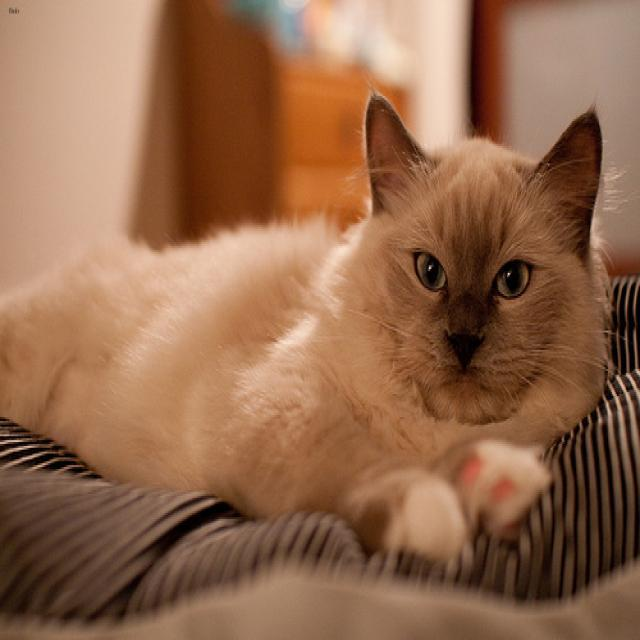Ragdoll: (336, 86, 613, 437)
